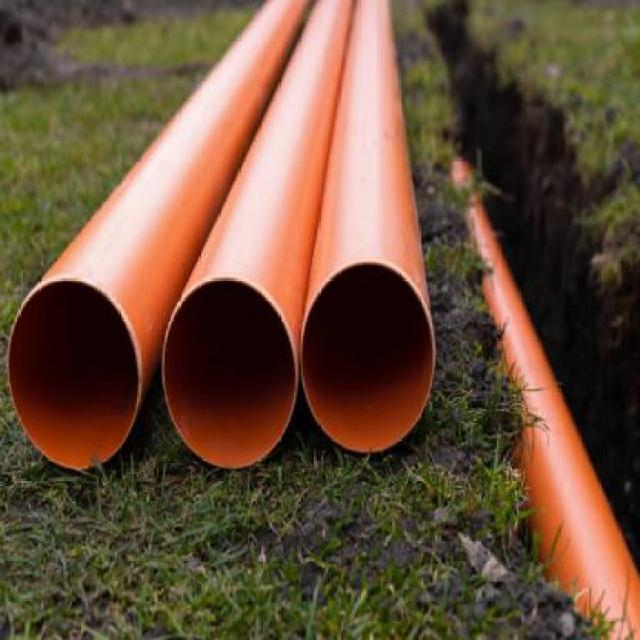pipe: (301, 260, 435, 453), (8, 278, 141, 471), (162, 277, 296, 468)
